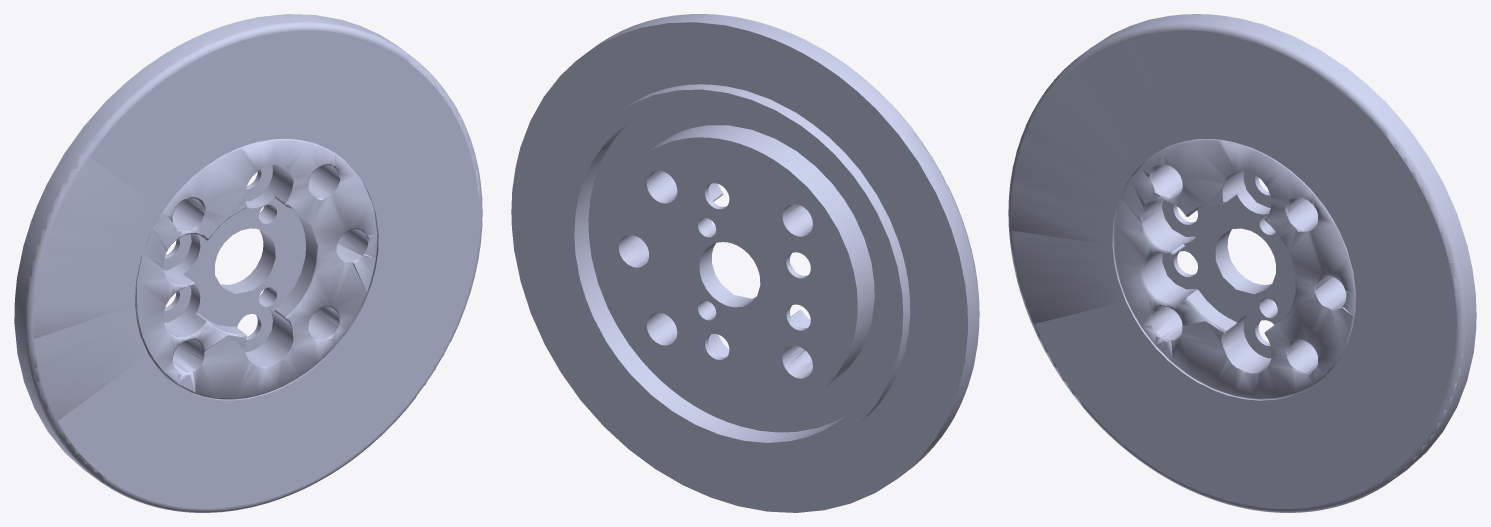
The model's file is adapter.glb.
3 renders of one model, left to right at view 1: azimuth 30°, elevation 25°; view 2: azimuth 150°, elevation 25°; view 3: azimuth 330°, elevation 25°, orthographic.
Size of the model in its own units: 0.075 by 0.075 by 0.00681.
